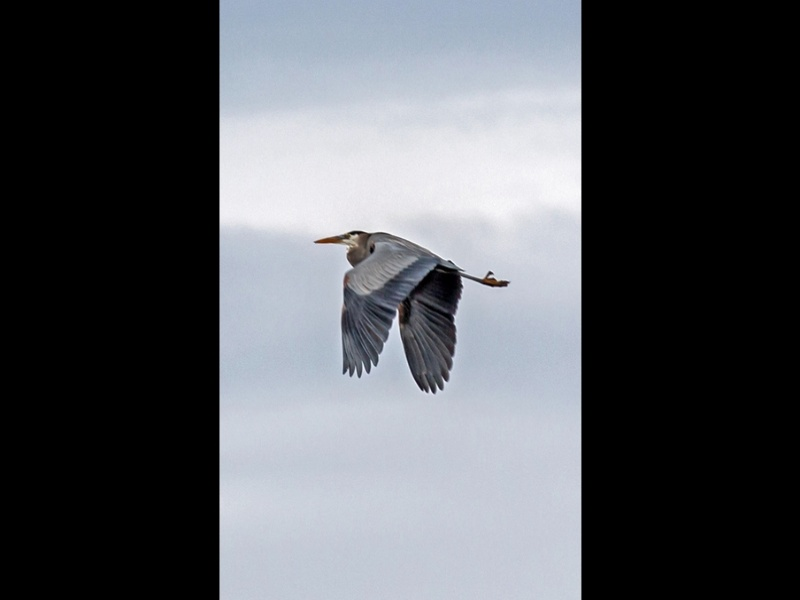heron: (310, 229, 514, 396)
